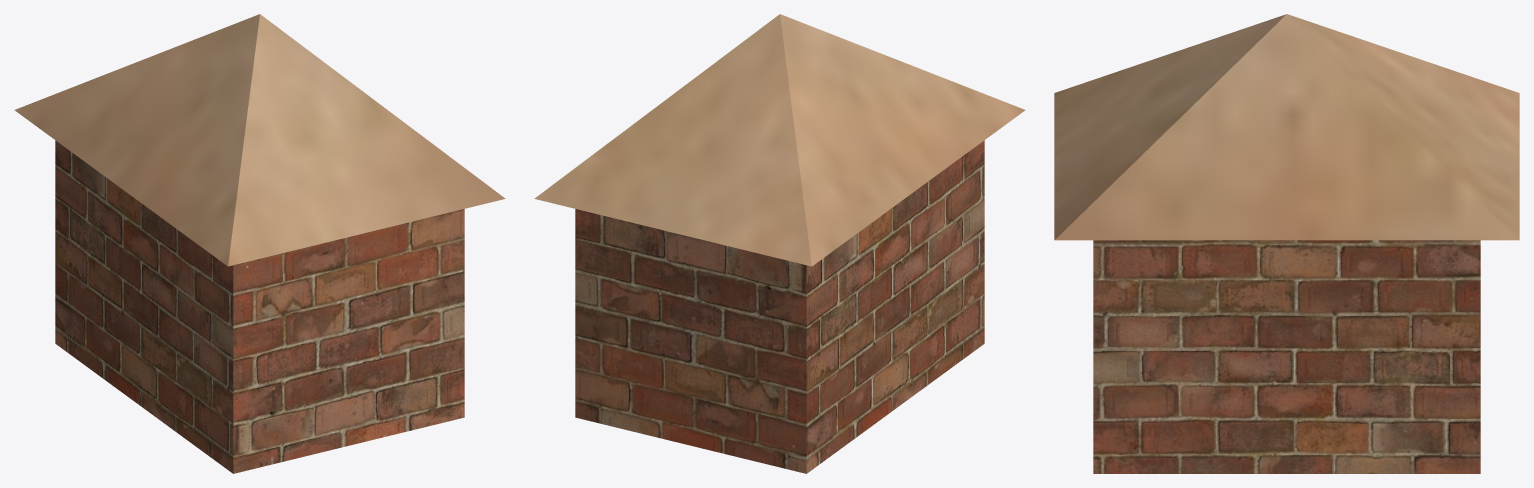
File: school.obj
3 views of the same model, side by side, from view 1: azimuth 30°, elevation 25°; view 2: azimuth 150°, elevation 25°; view 3: azimuth 270°, elevation 25° (orthographic). The views are drawn at different scales.
Bounding box in the file's own units: 3.6 × 4.54 × 4.8.
